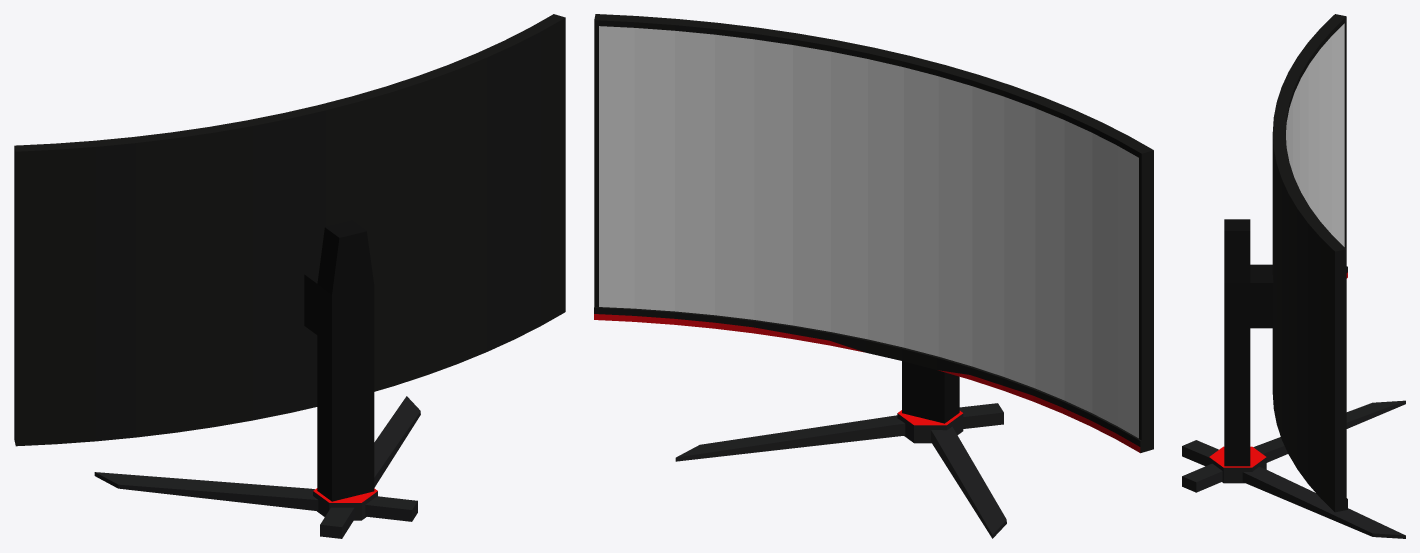
The model's file is monitorExp.fbx.
3 views of the same model, side by side, from view 1: azimuth 30°, elevation 25°; view 2: azimuth 150°, elevation 25°; view 3: azimuth 270°, elevation 25° (orthographic). The views are drawn at different scales.
Parts seen in each view (by area): view 1: Frame, Leg, LegBottom; view 2: Screen, Frame, LegBottom, Leg; view 3: Frame, Screen, Leg, LegBottom.
Part boxes in pixels (x1,y1,x2,y2): Frame: [14, 14, 565, 446]; Leg: [304, 220, 374, 501]; LegBottom: [94, 396, 420, 538]; Screen: [599, 26, 1138, 438]; Frame: [594, 14, 1153, 453]; LegBottom: [675, 403, 1006, 538]; Leg: [902, 361, 959, 423]; Frame: [1272, 14, 1347, 512]; Screen: [1286, 23, 1344, 246]; Leg: [1224, 219, 1273, 466]; LegBottom: [1182, 400, 1405, 538].
Size of the model in its own units: 391 by 261 by 156.
